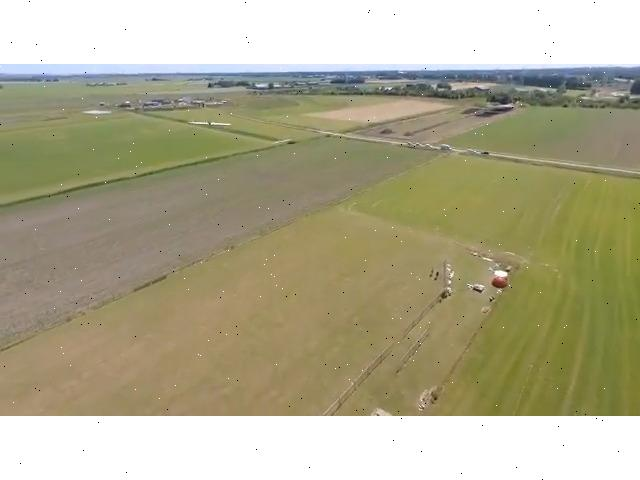Anti-Drone: (187, 114, 233, 136)
